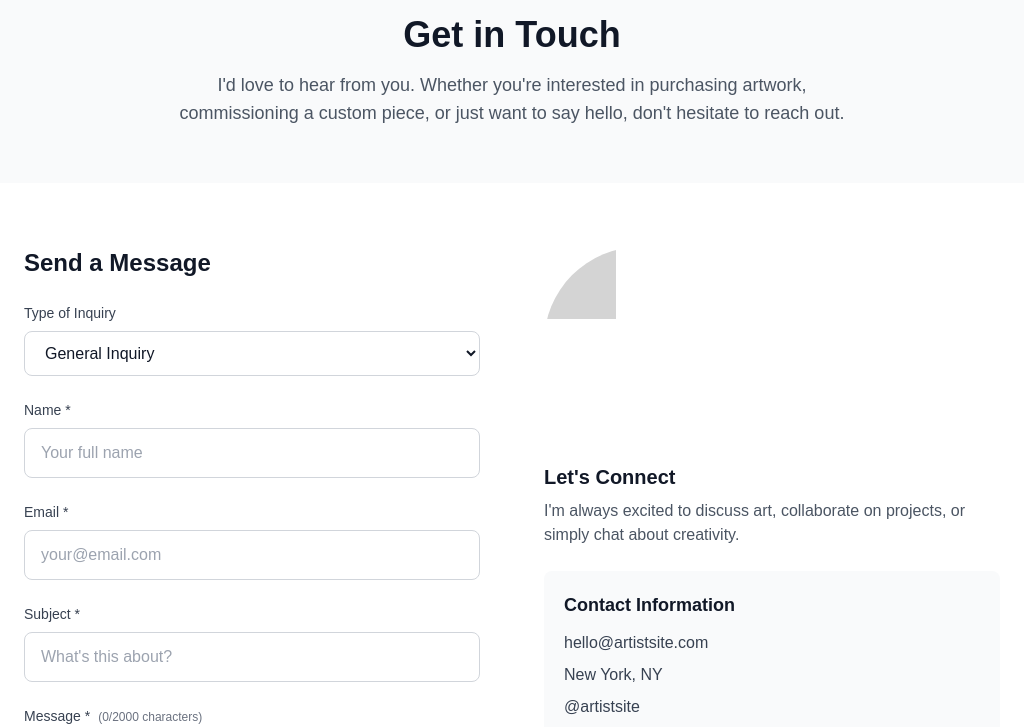
Contact Page › Rate Limiting › prevents form submission when rate limited
Select "General Inquiry" in the dropdown labelled "Type of Inquiry" at (252, 354), box [24,331,480,376]
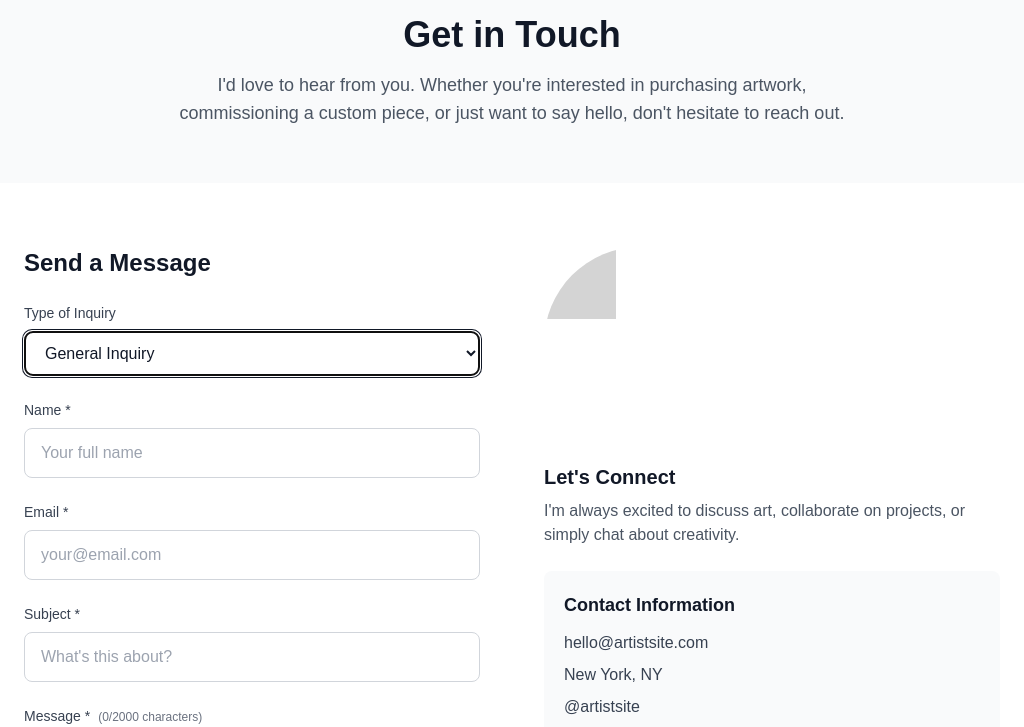
Type "John Doe" into the field labelled "Name *" at (252, 453), box [24,428,480,478]
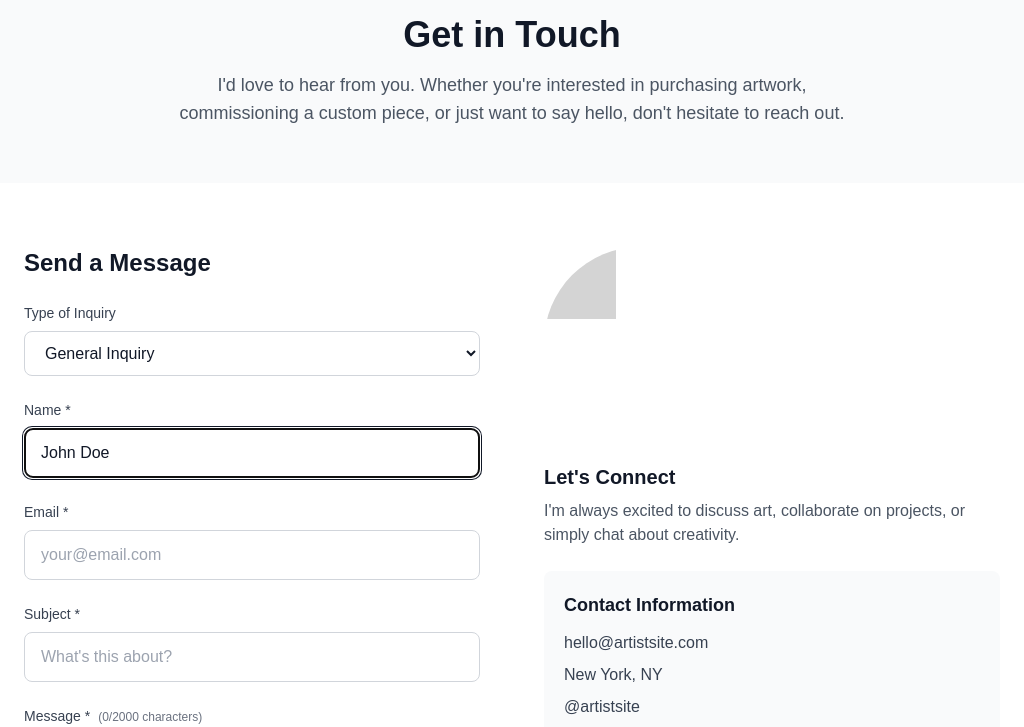
Type "john@example.com" into the field labelled "Email *" at (252, 555), box [24,530,480,580]
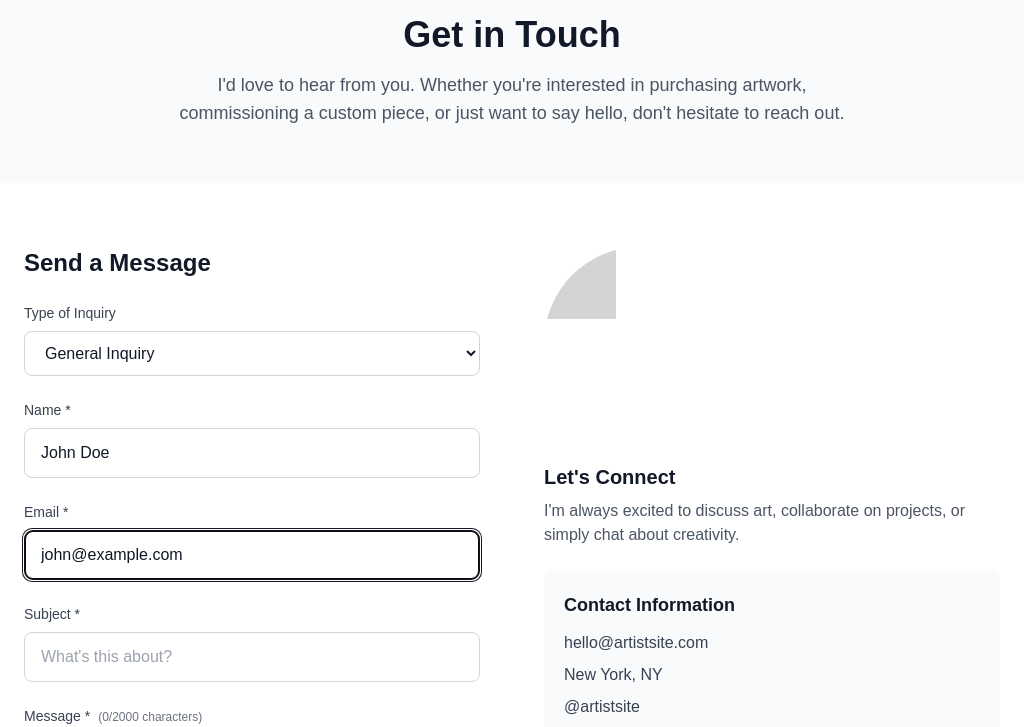
Type "Test subject" into the field labelled "Subject *" at (252, 657), box [24,632,480,682]
(page scrolled)
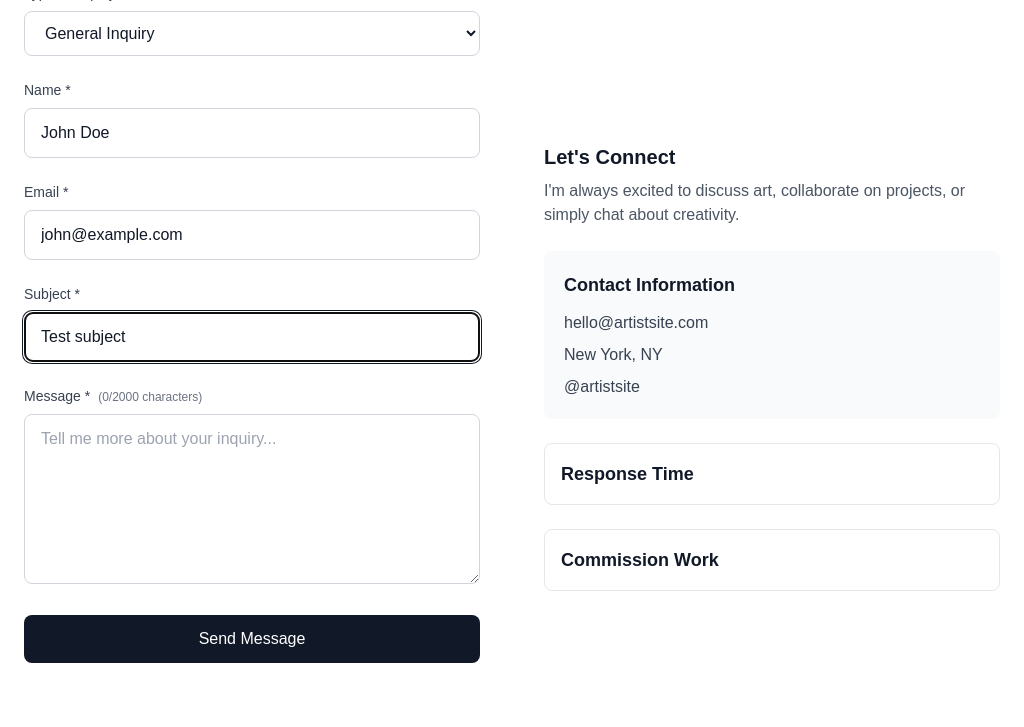
Type "This is a test message that is long enough to pass validation." into the text box labelled "Message *(0/2000 characters)" at (252, 499), box [24,414,480,584]
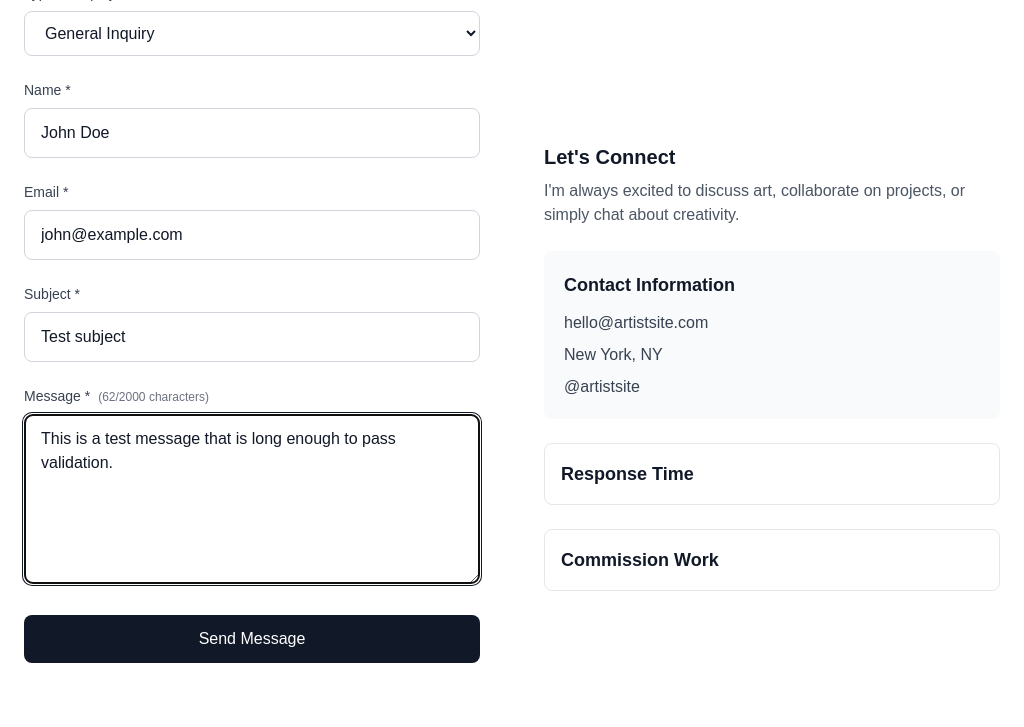
Click the button "Send Message" at (252, 639), box [24,615,480,663]
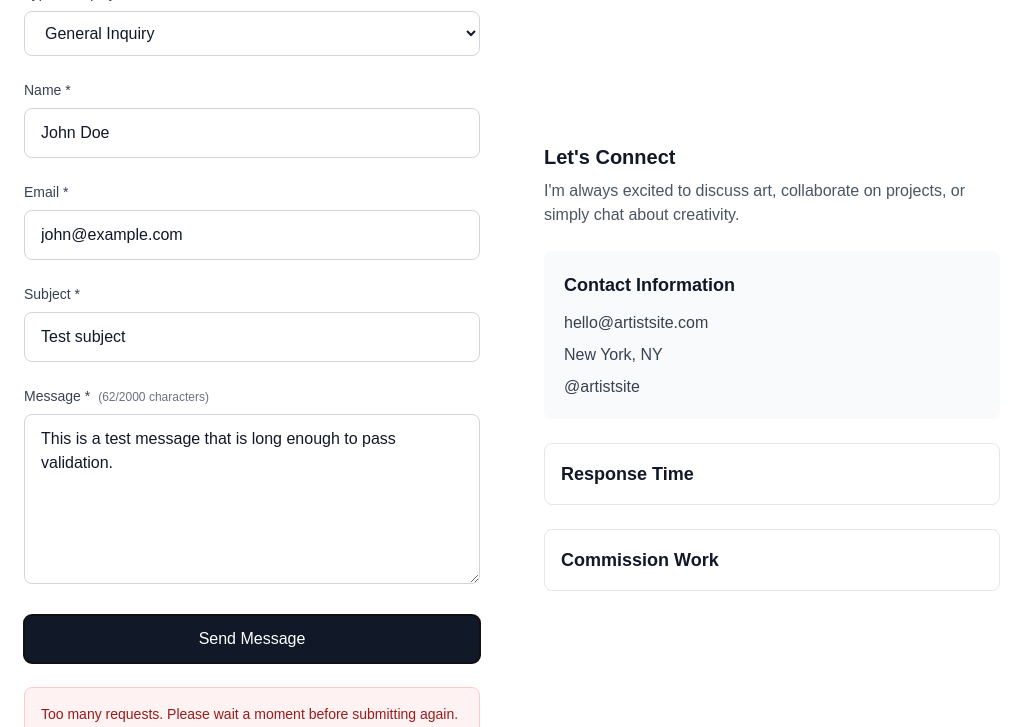
Expected: the text "Too many requests" is shown, [41,706,458,722]
